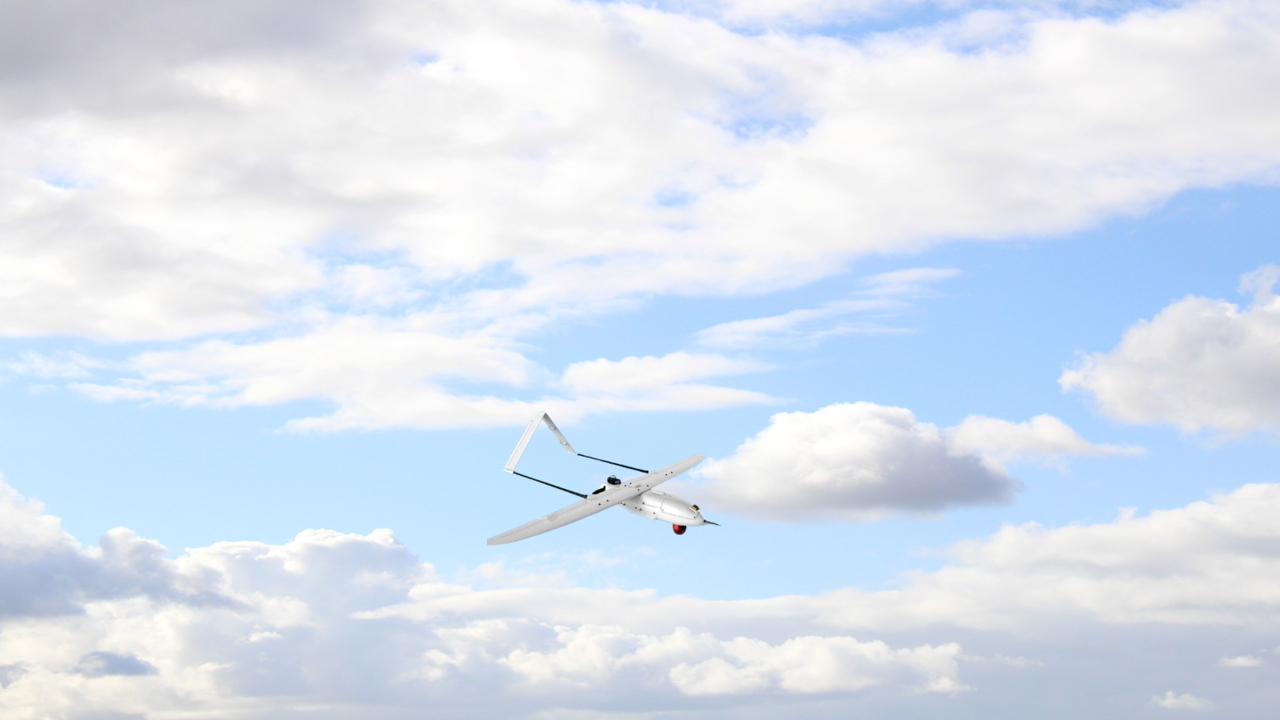military drone: (486, 410, 720, 546)
